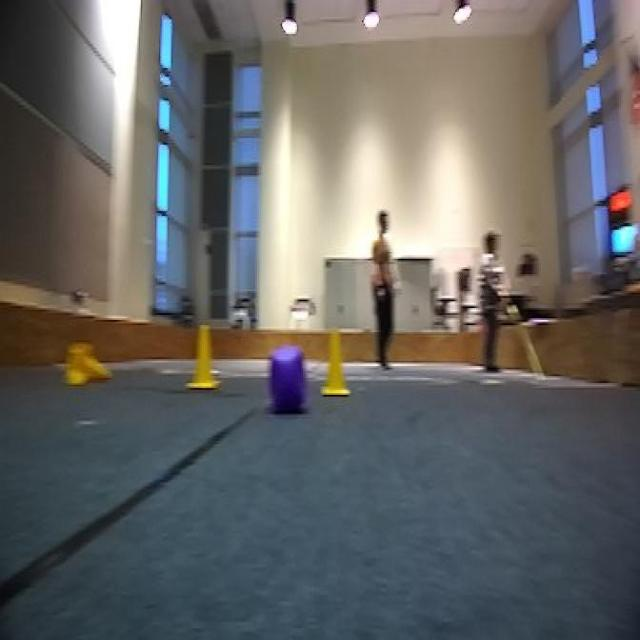frc_cone: (182, 322, 223, 389), (64, 337, 109, 388), (320, 331, 350, 398)
frc_cube: (268, 347, 308, 412)
